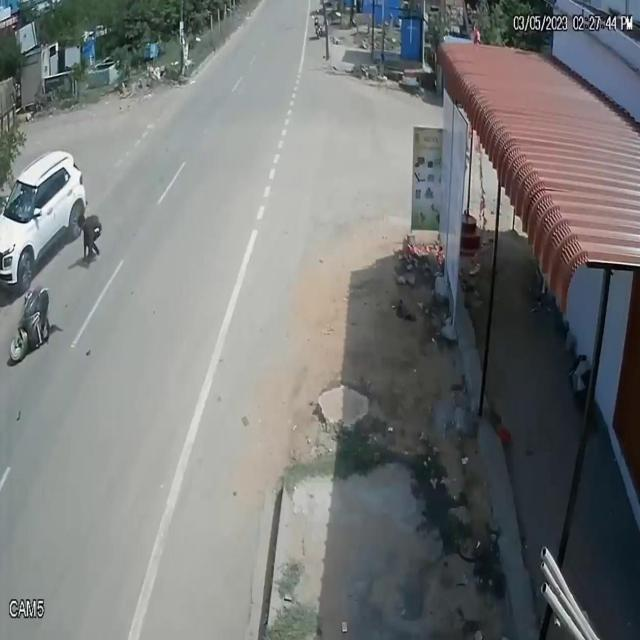accident: (0, 130, 108, 374)
